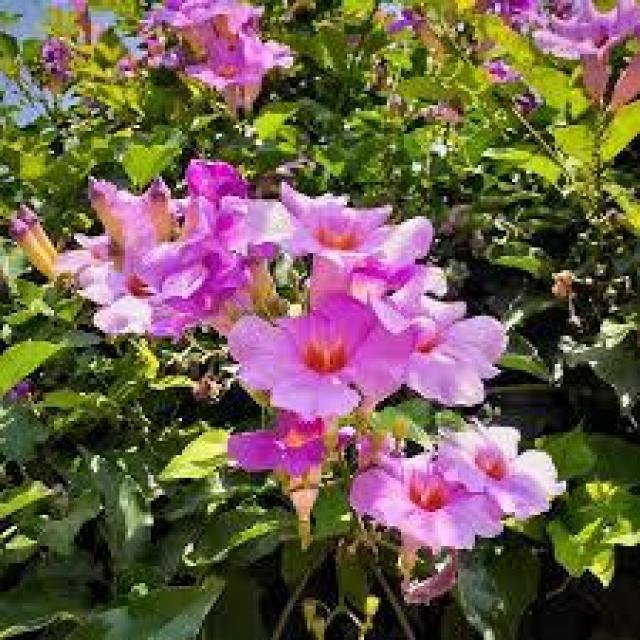organic waste: (268, 176, 507, 407), (91, 174, 250, 336), (222, 304, 432, 421), (353, 440, 523, 564), (440, 400, 568, 528), (175, 4, 286, 112)
